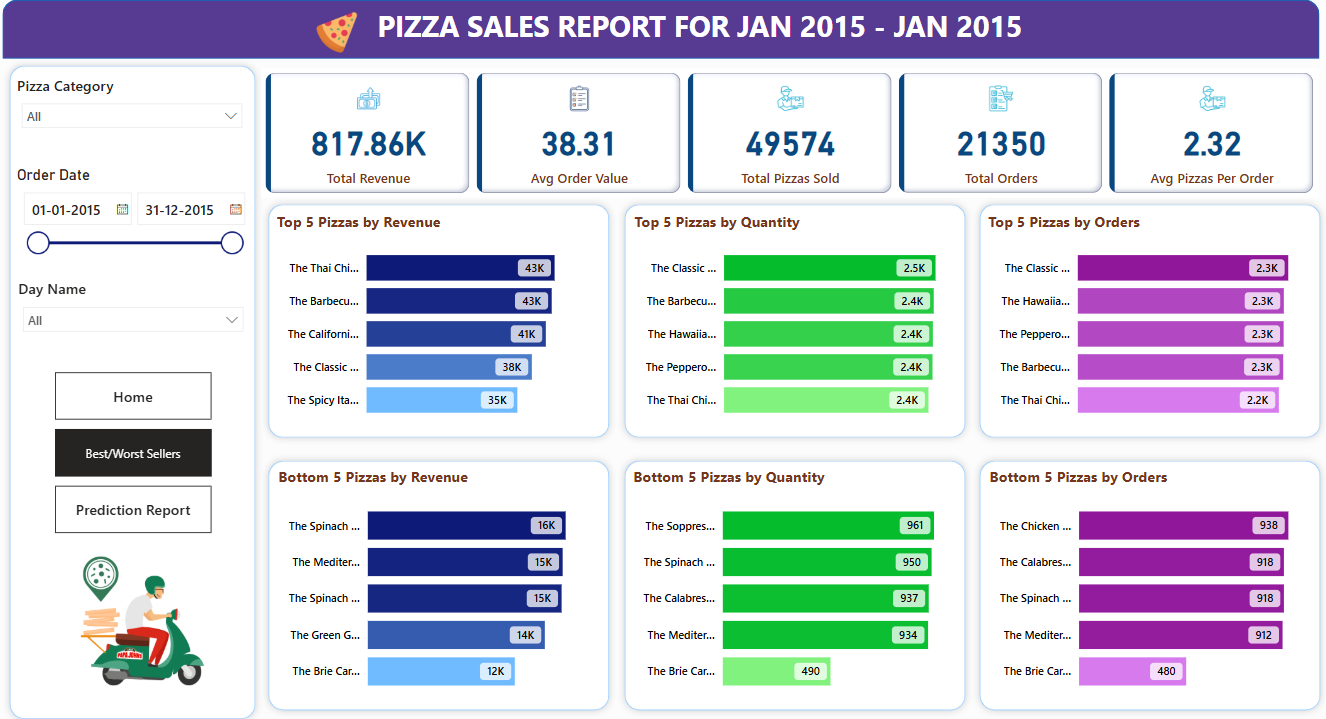

The page's visual inventory and layout, read from the dashboard file:
{"tool":"powerbi","page":{"name":"Best/Worst Sellers","canvas":[1500,820],"ordinal":1},"visuals":[{"type":"shape","box":[14.3,75.7,290,744.3],"z":0},{"type":"cardVisual","fields":{"Data":["pizza_sales.Total Revenue","pizza_sales.Avg Order Value","pizza_sales.Total Pizzas Sold","pizza_sales.Total Orders","pizza_sales.Avg Pizzas Per Order"]},"box":[302.9,85.7,1178.6,144.3],"z":1000},{"type":"shape","box":[14.3,10,1467.1,65.7],"z":2000},{"type":"textbox","box":[415,12.5,760.4,65.5],"z":3000},{"type":"image","box":[357.9,9.8,57.1,72.4],"z":4000},{"type":"shape","box":[302.9,230,395.7,275.7],"z":5000},{"type":"slicer","title":"Pizza Category","fields":{"Values":["pizza_sales.pizza_category"]},"box":[25.7,92.9,265.7,82.9],"z":6000},{"type":"slicer","title":"Order Date","fields":{"Values":["pizza_sales.order_date"]},"box":[25.7,194.6,265.7,107.1],"z":7000},{"type":"slicer","title":"Day Name","fields":{"Values":["Sort Reference Table.Week Name"]},"box":[27.1,320.6,265.7,92.9],"z":8000},{"type":"shape","box":[698.6,230,395.7,275.7],"z":9000},{"type":"shape","box":[1094.3,230,395.7,275.7],"z":10000},{"type":"shape","box":[302.9,515.7,395.7,294.3],"z":11000},{"type":"shape","box":[698.6,515.7,395.7,294.3],"z":12000},{"type":"shape","box":[1094.3,515.7,395.7,294.3],"z":13000},{"type":"barChart","title":"Top 5 Pizzas by Revenue","fields":{"Category":["pizza_sales.pizza_name"],"Y":["pizza_sales.Total Revenue"]},"box":[314.3,245.7,370,245.7],"z":14000},{"type":"barChart","title":"Bottom 5 Pizzas by Revenue","fields":{"Category":["pizza_sales.pizza_name"],"Y":["pizza_sales.Total Revenue"]},"box":[315.7,528.6,370,267.1],"z":15000},{"type":"barChart","title":"Top 5 Pizzas by Quantity","fields":{"Category":["pizza_sales.pizza_name"],"Y":["pizza_sales.Total Pizzas Sold"]},"box":[712.9,245.7,370,245.7],"z":16000},{"type":"barChart","title":"Bottom 5 Pizzas by Quantity","fields":{"Category":["pizza_sales.pizza_name"],"Y":["pizza_sales.Total Pizzas Sold"]},"box":[711.4,528.6,370,267.1],"z":17000},{"type":"barChart","title":"Top 5 Pizzas by Orders","fields":{"Category":["pizza_sales.pizza_name"],"Y":["pizza_sales.Total Orders"]},"box":[1107.1,245.7,370,245.7],"z":18000},{"type":"barChart","title":"Bottom 5 Pizzas by Orders","fields":{"Category":["pizza_sales.pizza_name"],"Y":["pizza_sales.Total Orders"]},"box":[1108.6,528.6,370,267.1],"z":19000},{"type":"image","box":[27.1,590,264.3,220],"z":22000},{"type":"pageNavigator","box":[72.4,424.8,174.1,181.1],"z":23001}]}

Visuals, with their boxes in screenshot pixels (x1, y1, x2, y2), scaled from the page's 1500x820 canvas onto the 1326x719 screenshot:
shape: l=13, t=66, r=269, b=718
cardVisual - pizza_sales.Total Revenue x pizza_sales.Avg Order Value: l=268, t=75, r=1310, b=202
shape: l=13, t=9, r=1310, b=66
textbox: l=367, t=11, r=1039, b=68
image: l=316, t=9, r=367, b=72
shape: l=268, t=202, r=618, b=443
"Pizza Category" slicer: l=23, t=81, r=258, b=154
"Order Date" slicer: l=23, t=171, r=258, b=265
"Day Name" slicer: l=24, t=281, r=259, b=363
shape: l=618, t=202, r=967, b=443
shape: l=967, t=202, r=1317, b=443
shape: l=268, t=452, r=618, b=710
shape: l=618, t=452, r=967, b=710
shape: l=967, t=452, r=1317, b=710
"Top 5 Pizzas by Revenue" barChart: l=278, t=215, r=605, b=431
"Bottom 5 Pizzas by Revenue" barChart: l=279, t=463, r=606, b=698
"Top 5 Pizzas by Quantity" barChart: l=630, t=215, r=957, b=431
"Bottom 5 Pizzas by Quantity" barChart: l=629, t=463, r=956, b=698
"Top 5 Pizzas by Orders" barChart: l=979, t=215, r=1306, b=431
"Bottom 5 Pizzas by Orders" barChart: l=980, t=463, r=1307, b=698
image: l=24, t=517, r=258, b=710
pageNavigator: l=64, t=372, r=218, b=531
